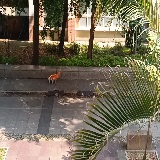fire: (50, 70, 61, 79)
